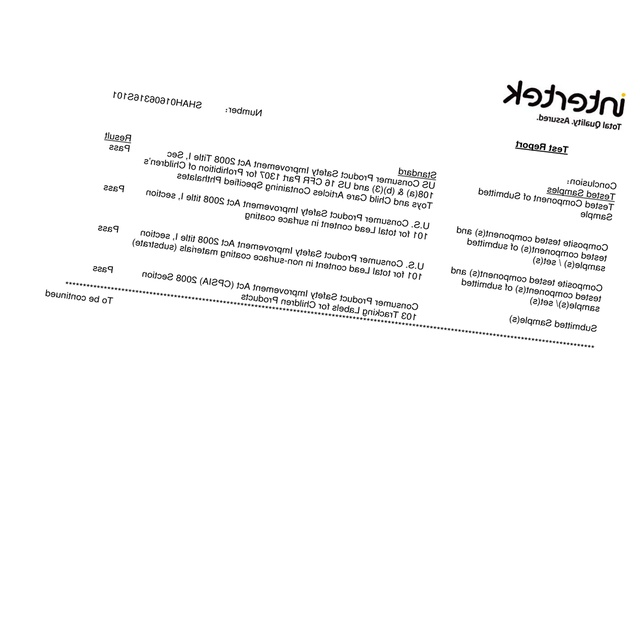intertek: (499, 75, 627, 123)
